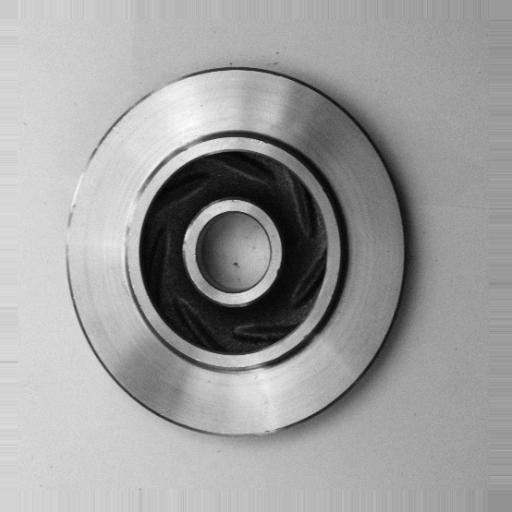scratch: (50, 140, 102, 271), (115, 184, 149, 265)
unpolished_casting: (60, 64, 410, 442)
